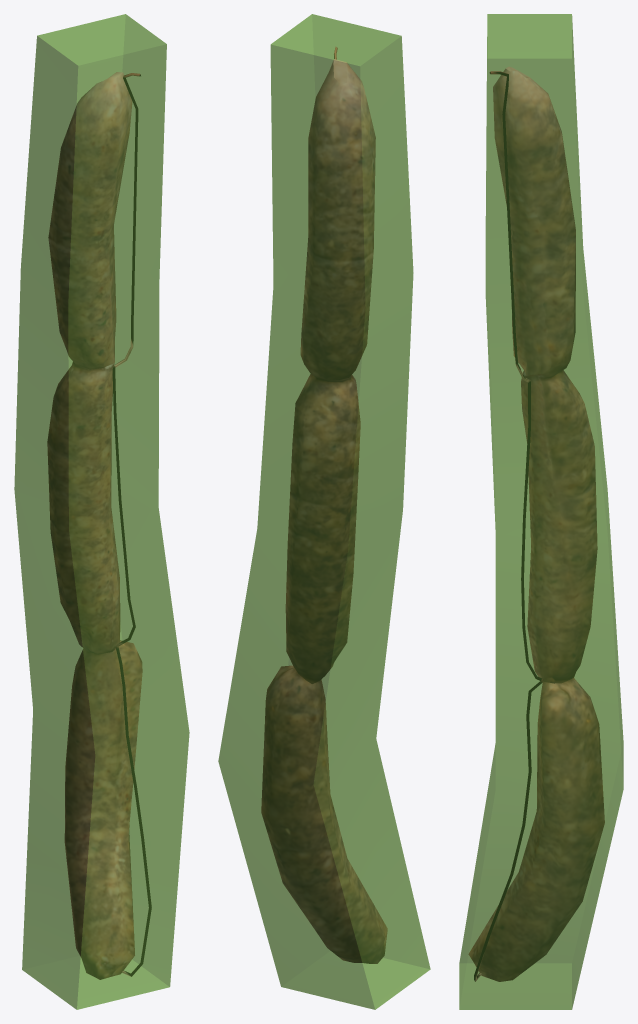
The model's file is pg_Sausage_02.fbx.
The picture shows the model from 3 angles, left to right: view 1: azimuth 30°, elevation 25°; view 2: azimuth 150°, elevation 25°; view 3: azimuth 270°, elevation 25°; orthographic projection. The views are drawn at different scales.
Parts seen in each view (by area): view 1: pg_Sausage_02_a_col, pg_Sausage_02_a_LOD0; view 2: pg_Sausage_02_a_col, pg_Sausage_02_a_LOD0; view 3: pg_Sausage_02_a_col, pg_Sausage_02_a_LOD0.
Boxes of the visible parts, x1,y1,x2,y2 form: pg_Sausage_02_a_col: (14,14,189,1009); pg_Sausage_02_a_LOD0: (47,72,151,979); pg_Sausage_02_a_col: (218,14,430,1009); pg_Sausage_02_a_LOD0: (261,47,387,963); pg_Sausage_02_a_col: (459,14,623,1009); pg_Sausage_02_a_LOD0: (468,66,604,981).
Size of what is drawn, in the model's own units: 8.21 by 55.98 by 8.71.
